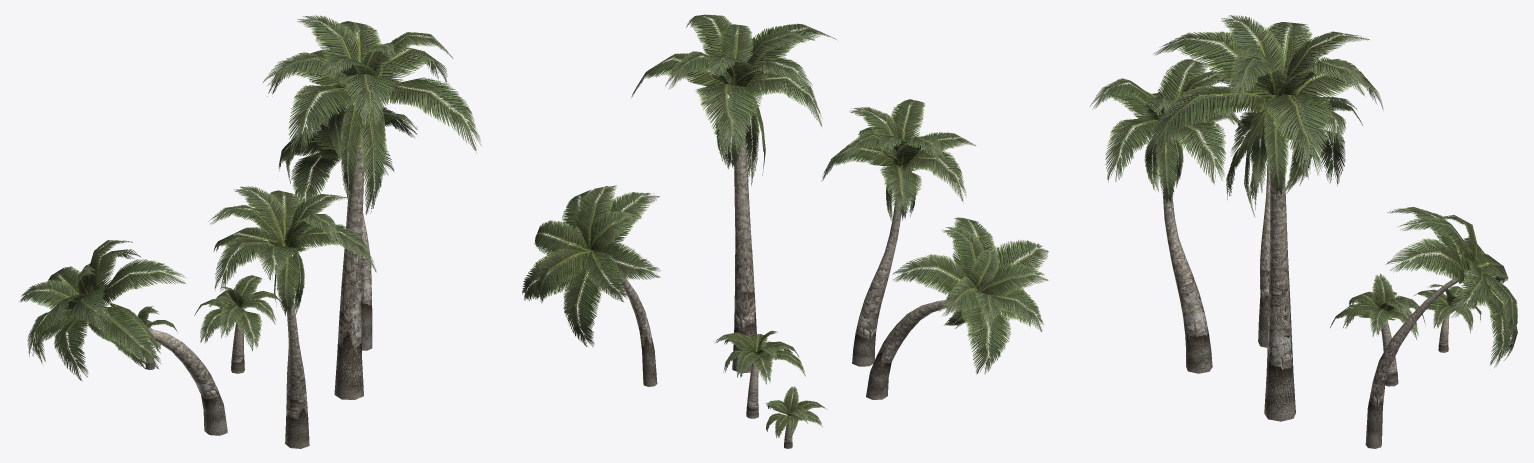
Rendered from PalmTrees.obj.
3 views of the same model, side by side, from view 1: azimuth 30°, elevation 25°; view 2: azimuth 150°, elevation 25°; view 3: azimuth 270°, elevation 25° (orthographic). The views are drawn at different scales.
Parts seen in each view (by area): view 1: frond, trunk; view 2: frond, trunk; view 3: frond, trunk.
Boxes of the visible parts, x1,y1,x2,y2 form: frond: (20, 15, 481, 381); trunk: (93, 96, 372, 448); frond: (522, 14, 1048, 438); trunk: (590, 126, 962, 448); frond: (1090, 15, 1517, 367); trunk: (1163, 118, 1468, 448).
Bounding box in the file's own units: 72.46 × 52.68 × 54.64.
